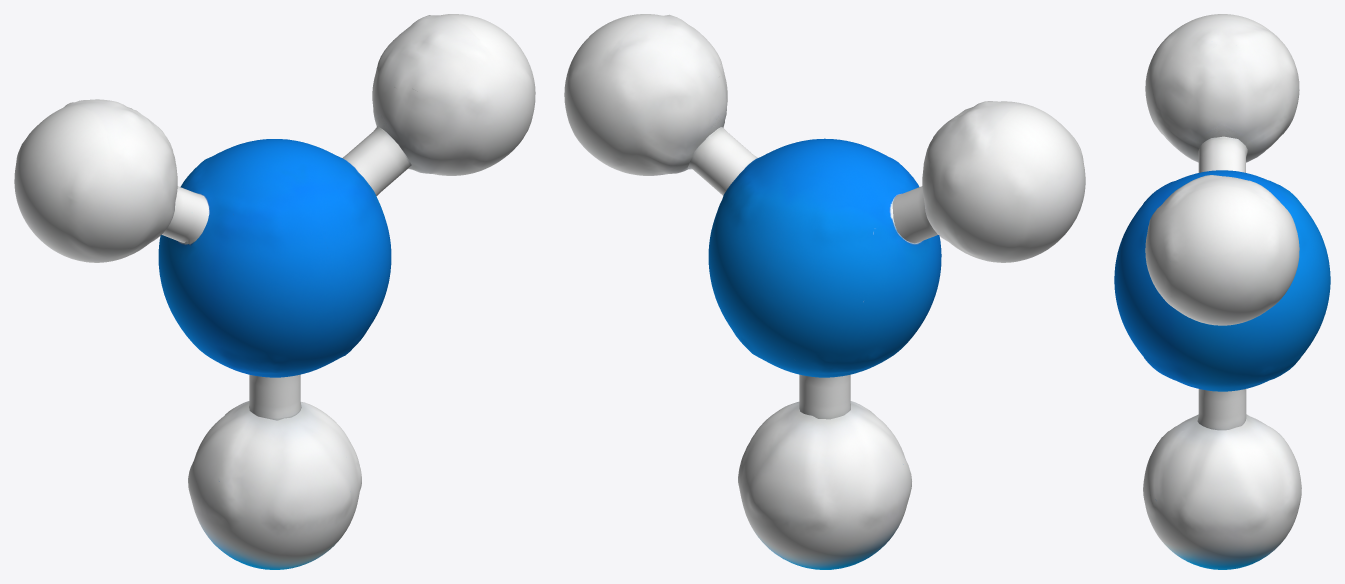
Rendered from Meshy_AI_nh3_molecule_0407070818_texture.fbx.
3 renders of one model, left to right at view 1: azimuth 30°, elevation 25°; view 2: azimuth 150°, elevation 25°; view 3: azimuth 270°, elevation 25°, orthographic. The views are drawn at different scales.
Parts seen in each view (by area): view 1: output; view 2: output; view 3: output.
Part boxes in pixels (x1,y1,x2,y2): output: (14,14,535,569); output: (564,14,1085,569); output: (1114,14,1330,569).
Size of the model in its own units: 191 by 182 by 77.24.
1 material, 1 textured.
